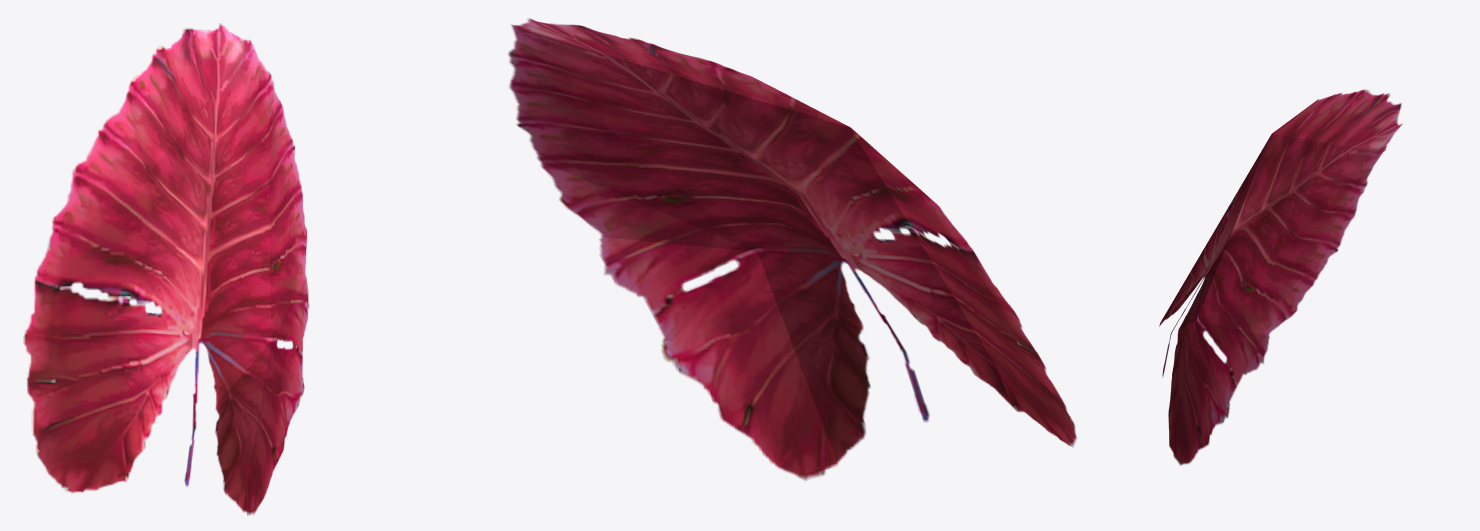
The model's file is AlienPlant_1_EELeaf_1.gltf.
3 views of the same model, side by side, from view 1: azimuth 30°, elevation 25°; view 2: azimuth 150°, elevation 25°; view 3: azimuth 270°, elevation 25° (orthographic). The views are drawn at different scales.
Parts seen in each view (by area): view 1: AlienPlant_1_EELeaf_1; view 2: AlienPlant_1_EELeaf_1; view 3: AlienPlant_1_EELeaf_1.
Part boxes in pixels (x1,y1,x2,y2): AlienPlant_1_EELeaf_1: [23, 23, 309, 515]; AlienPlant_1_EELeaf_1: [508, 18, 1076, 480]; AlienPlant_1_EELeaf_1: [1159, 89, 1402, 465].
Size of the model in its own units: 1.07 by 1.1 by 0.7337.
1 material, 1 textured.
